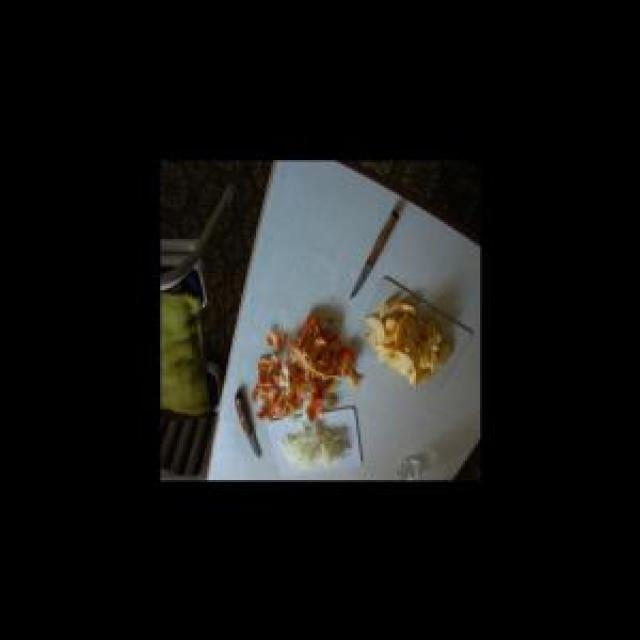knife: (350, 194, 405, 300), (232, 386, 264, 462)
